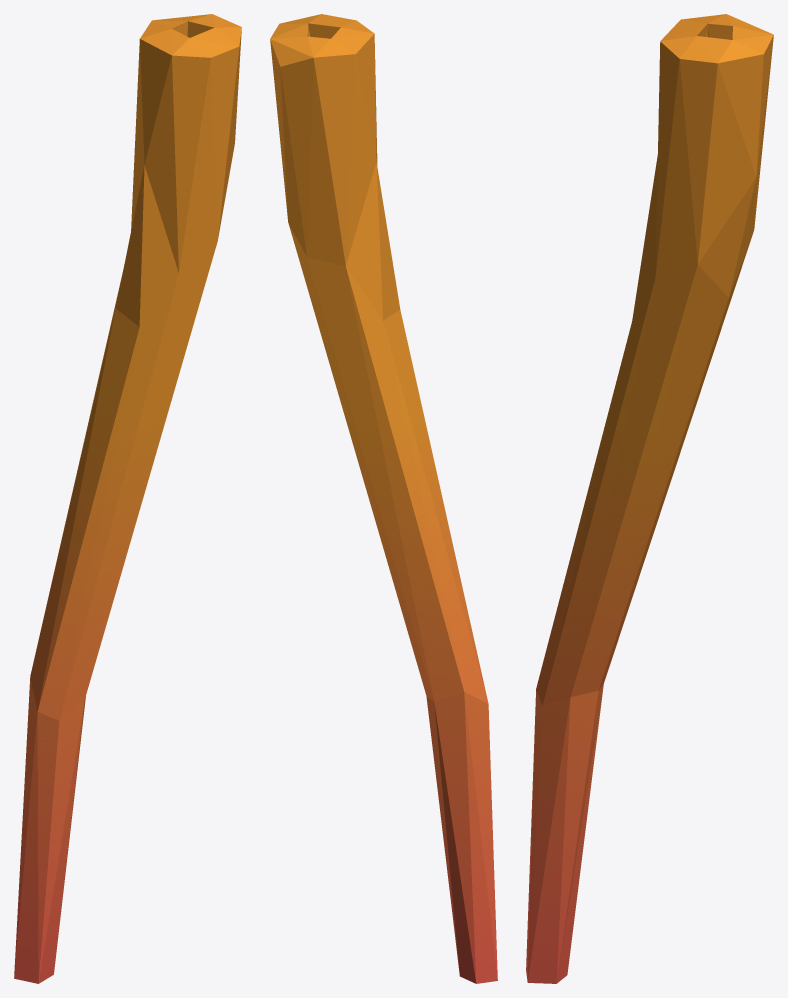
Rendered from SM_Spongia_11.fbx.
The picture shows the model from 3 angles, left to right: view 1: azimuth 30°, elevation 25°; view 2: azimuth 150°, elevation 25°; view 3: azimuth 330°, elevation 25°; orthographic projection. The views are drawn at different scales.
Parts seen in each view (by area): view 1: Spongia_11; view 2: Spongia_11; view 3: Spongia_11.
Part boxes in pixels (x1,y1,x2,y2): Spongia_11: (14, 14, 241, 983); Spongia_11: (270, 14, 497, 983); Spongia_11: (526, 14, 773, 983).
Size of the model in its own units: 27.14 by 105 by 11.38.
